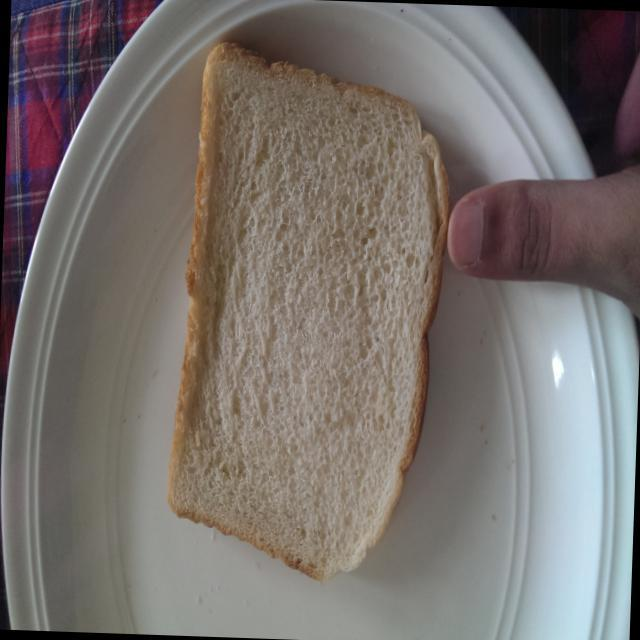Bread: (159, 34, 456, 587)
Finger: (440, 168, 574, 292)
